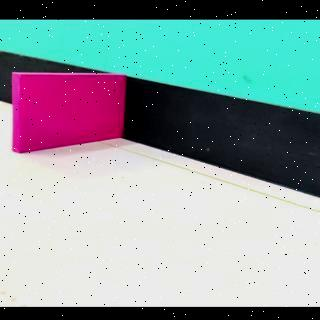xparking: (18, 74, 122, 152)
